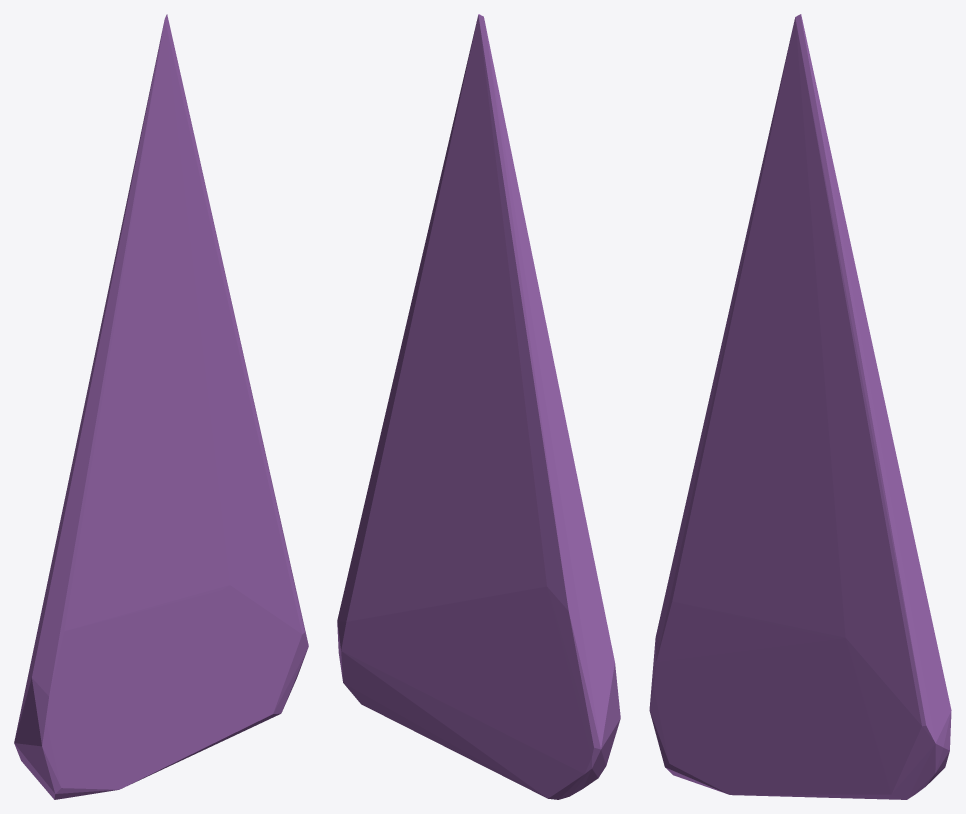
File: utensils_scissors_i01.glb
3 renders of one model, left to right at view 1: azimuth 30°, elevation 25°; view 2: azimuth 150°, elevation 25°; view 3: azimuth 330°, elevation 25°, orthographic. The views are drawn at different scales.
Visible parts, largest first — view 1: geometry_0; view 2: geometry_0; view 3: geometry_0.
Part boxes in pixels (x1,y1,x2,y2): geometry_0: (14,14,308,799); geometry_0: (337,14,620,799); geometry_0: (649,14,951,799).
Size of the model in its own units: 0.1787 by 0.478 by 0.0293.
